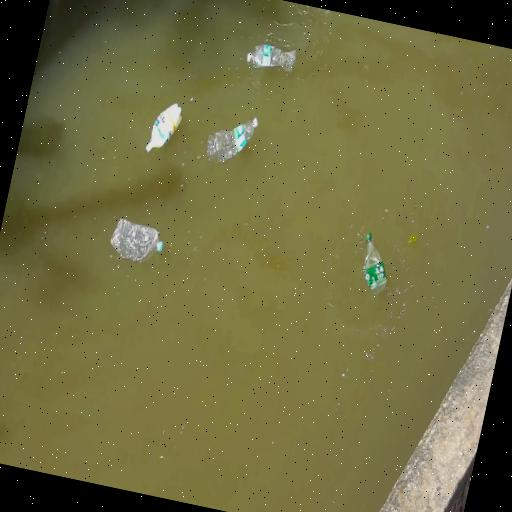plastic: (207, 118, 258, 162), (111, 218, 163, 261), (146, 104, 182, 152), (363, 233, 386, 293), (247, 45, 296, 72)
